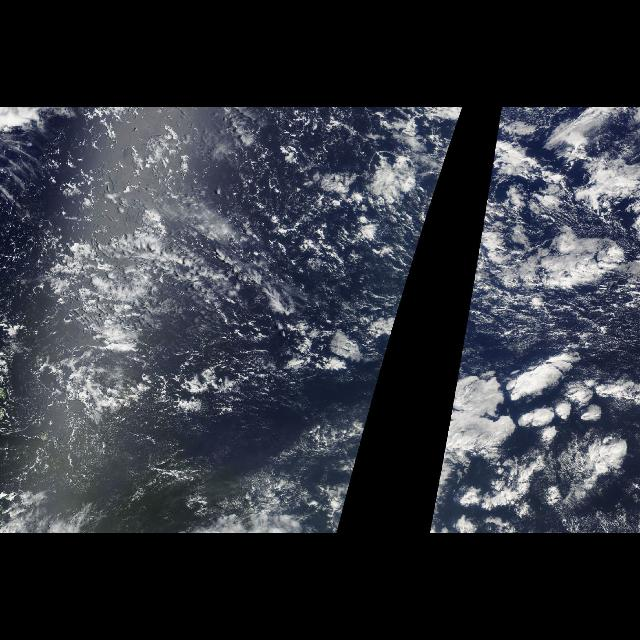Fish: (47, 228, 300, 368)
Gravel: (196, 119, 422, 285)
Sugar: (17, 383, 325, 522)
